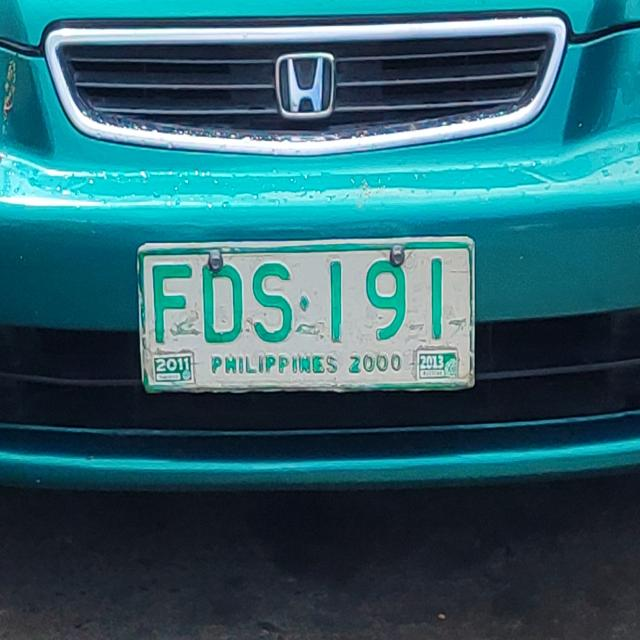plate: (135, 233, 477, 395)
